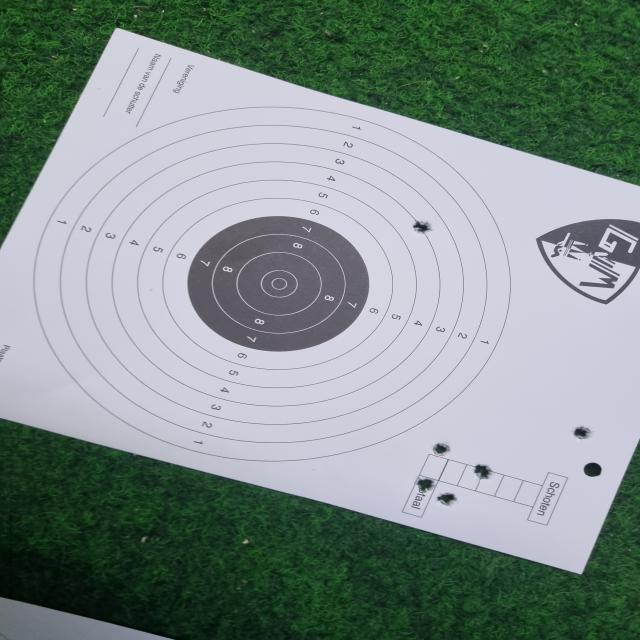5: (413, 220, 433, 234)
Black Contour: (186, 215, 370, 352)
Target: (33, 106, 512, 463)
hole: (474, 463, 492, 480), (438, 492, 457, 507), (574, 426, 592, 440), (416, 478, 434, 492), (432, 444, 451, 456)
